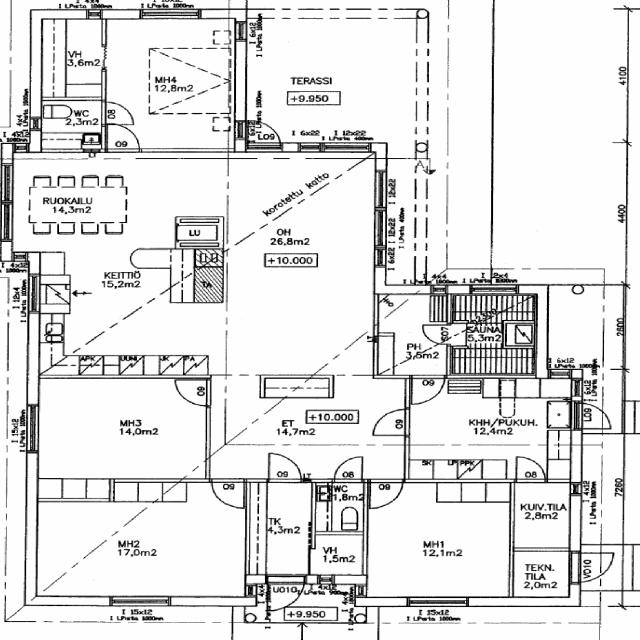door: (571, 553, 620, 583), (269, 574, 306, 613), (571, 402, 616, 428), (249, 116, 281, 152), (269, 452, 302, 482), (411, 375, 444, 405), (372, 408, 409, 434), (174, 380, 210, 406), (212, 478, 243, 508), (370, 479, 402, 508), (108, 122, 140, 151), (516, 454, 546, 482), (335, 457, 361, 482), (102, 104, 132, 125), (423, 324, 451, 344)
